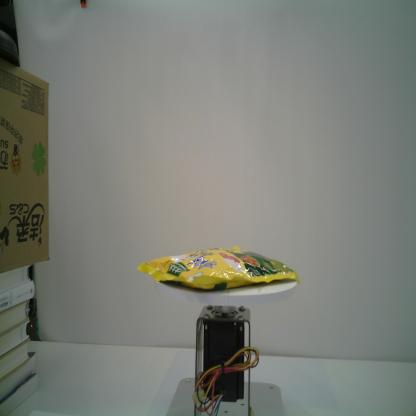Seasoner: (138, 244, 300, 292)
